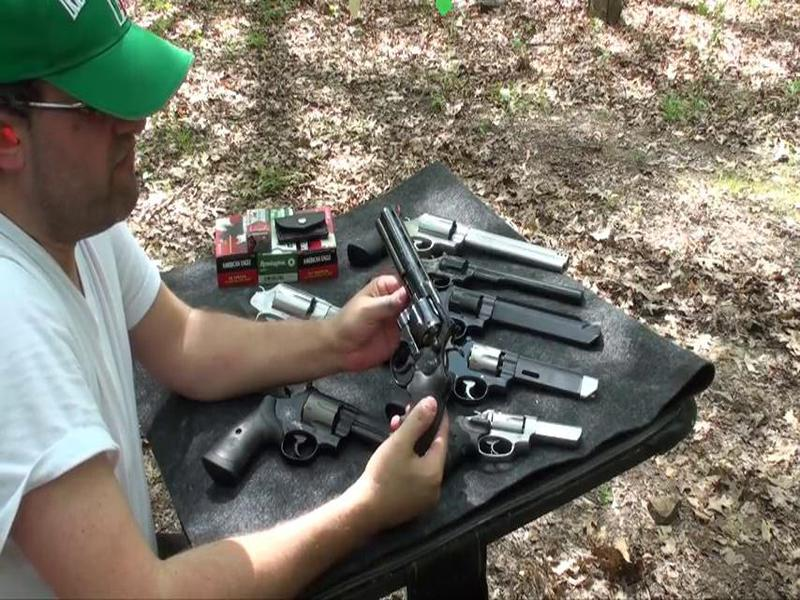Revolver: (347, 215, 479, 441)
